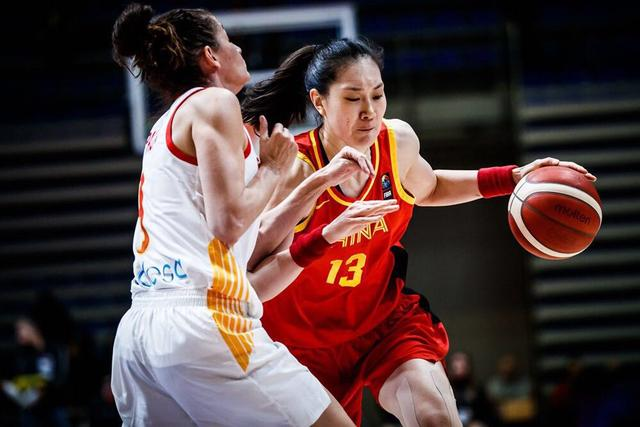ball: (507, 165, 602, 260)
